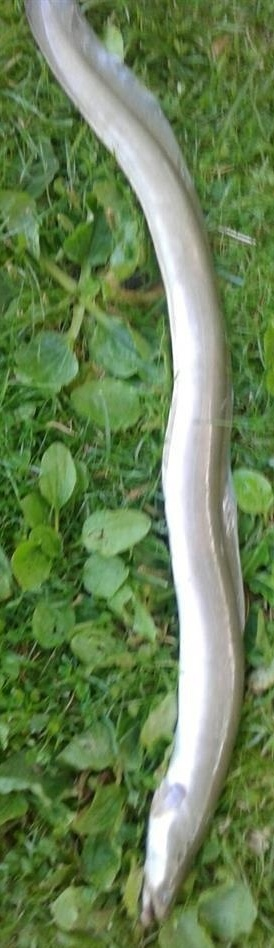Anguilla anguilla: (20, 1, 254, 928)
